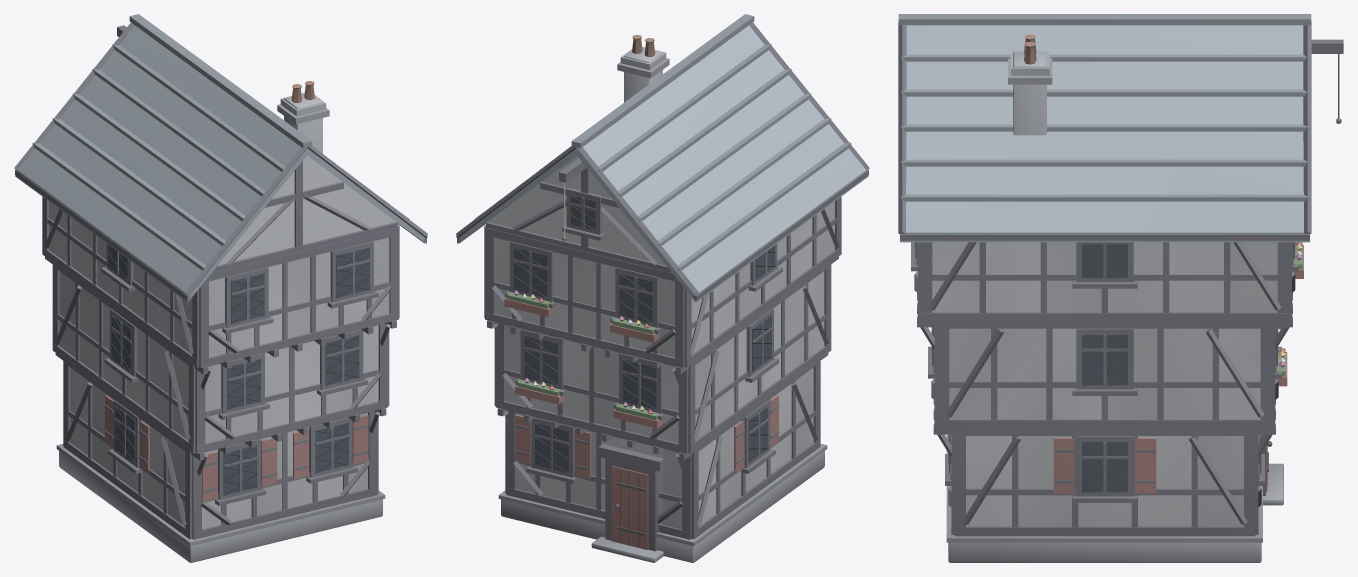
The model's file is townhouse_frost.gltf.
3 renders of one model, left to right at view 1: azimuth 30°, elevation 25°; view 2: azimuth 150°, elevation 25°; view 3: azimuth 270°, elevation 25°, orthographic. The views are drawn at different scales.
Visible parts, largest first — view 1: Body; view 2: Body; view 3: Body.
Boxes of the visible parts, bbox=[...] form: Body: bbox=[14, 14, 427, 562]; Body: bbox=[456, 14, 869, 562]; Body: bbox=[898, 14, 1343, 562].
Bounding box in the file's own units: 6.92 × 11.37 × 9.24.
